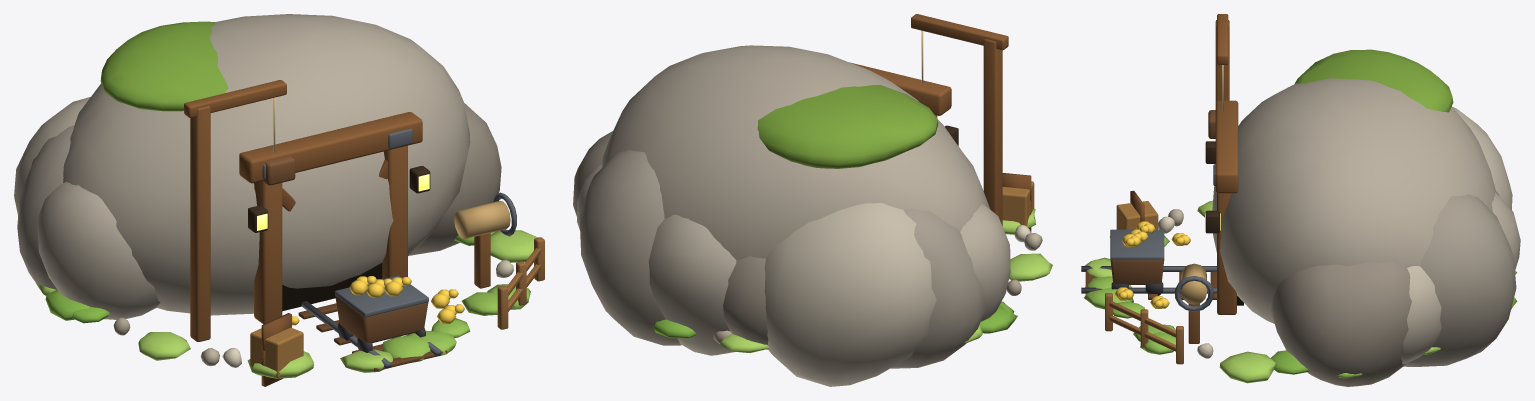
Rendered from m_rich.glb.
The picture shows the model from 3 angles, left to right: view 1: azimuth 30°, elevation 25°; view 2: azimuth 150°, elevation 25°; view 3: azimuth 270°, elevation 25°; orthographic projection. The views are drawn at different scales.
Visible parts, largest first — view 1: root_matte#b4aa9a, root_matte#8a5a30, moss, root_matte#a8d060, root_matte#968c7e, root_matte#a39a8c, root_matte#7a5232, root_matte#94c252, root_metal#5e646c, root_matte#9a6a3a, root_matte#c2b8a6, richCrate (+7 smaller); view 2: root_matte#b4aa9a, root_matte#c2b8a6, root_matte#a39a8c, moss, root_matte#8a5a30, root_matte#968c7e, root_matte#a8d060, root_matte#7fb243, richCrate, root_matte#7a4e2a, root_matte#b8ad98; view 3: root_matte#b4aa9a, root_matte#968c7e, root_matte#a39a8c, root_matte#8a5a30, moss, root_matte#c2b8a6, root_metal#5e646c, root_matte#a8d060, root_matte#9a6a3a, root_matte#94c252, root_matte#7a5232, richCrate (+4 smaller).
Boxes of the visible parts, x1=… form: root_matte#b4aa9a: x1=37, y1=14, x2=470, y2=319; root_matte#8a5a30: x1=184, y1=80, x2=490, y2=341; moss: x1=100, y1=21, x2=228, y2=111; root_matte#a8d060: x1=36, y1=230, x2=537, y2=378; root_matte#968c7e: x1=409, y1=103, x2=501, y2=255; root_matte#a39a8c: x1=17, y1=125, x2=74, y2=289; root_matte#7a5232: x1=263, y1=156, x2=428, y2=343; root_matte#94c252: x1=382, y1=284, x2=530, y2=362; root_metal#5e646c: x1=262, y1=128, x2=516, y2=317; root_matte#9a6a3a: x1=497, y1=237, x2=544, y2=329; root_matte#c2b8a6: x1=14, y1=97, x2=90, y2=215; richCrate: x1=250, y1=327, x2=303, y2=377; root_matte#b4aa9a: x1=602, y1=45, x2=1010, y2=355; root_matte#c2b8a6: x1=577, y1=164, x2=936, y2=386; root_matte#a39a8c: x1=579, y1=150, x2=984, y2=368; moss: x1=757, y1=85, x2=938, y2=168; root_matte#8a5a30: x1=849, y1=14, x2=1008, y2=225; root_matte#968c7e: x1=573, y1=131, x2=768, y2=349; root_matte#a8d060: x1=719, y1=208, x2=1052, y2=352; root_matte#7fb243: x1=653, y1=301, x2=1017, y2=338; richCrate: x1=1002, y1=181, x2=1034, y2=226; root_matte#7a4e2a: x1=1002, y1=173, x2=1031, y2=232; root_matte#b8ad98: x1=713, y1=233, x2=1042, y2=343; root_matte#b4aa9a: x1=1212, y1=78, x2=1520, y2=323; root_matte#968c7e: x1=1271, y1=191, x2=1499, y2=386; root_matte#a39a8c: x1=1403, y1=194, x2=1516, y2=366; root_matte#8a5a30: x1=1188, y1=14, x2=1238, y2=343; moss: x1=1294, y1=49, x2=1453, y2=112; root_matte#c2b8a6: x1=1401, y1=107, x2=1512, y2=364; root_metal#5e646c: x1=1110, y1=164, x2=1215, y2=311; root_matte#a8d060: x1=1085, y1=200, x2=1517, y2=383; root_matte#9a6a3a: x1=1105, y1=293, x2=1183, y2=364; root_matte#94c252: x1=1084, y1=276, x2=1362, y2=378; root_matte#7a5232: x1=1110, y1=110, x2=1215, y2=284; richCrate: x1=1116, y1=201, x2=1158, y2=229.
Size of the model in its own units: 3.15 by 1.97 by 3.09.
